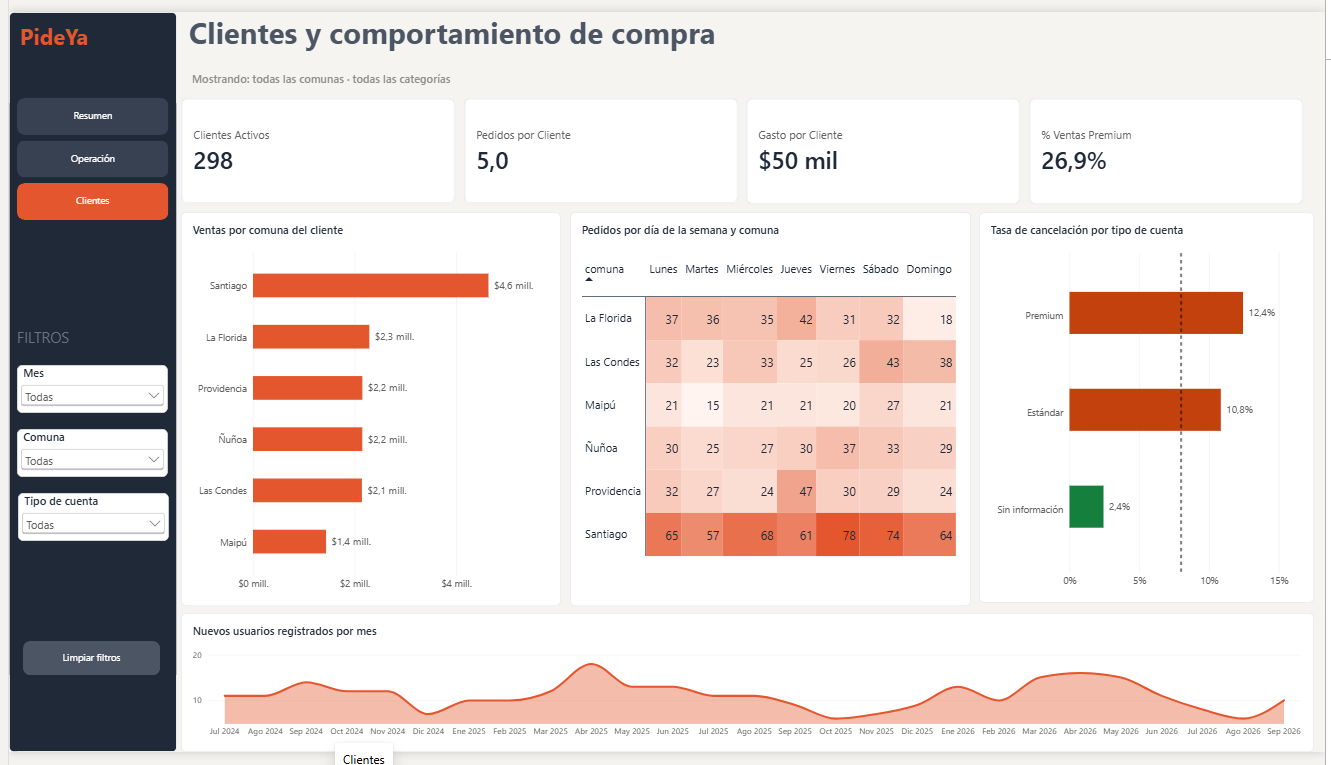

This screenshot's page, from the dashboard's own definition file:
{"tool":"powerbi","page":{"name":"Clientes","canvas":[1920,1080],"ordinal":2},"visuals":[{"type":"shape","box":[0,0,245.1,1079.6],"z":0},{"type":"cardVisual","fields":{"Data":["_Medidas.Clientes Activos"]},"box":[250.9,125.5,400,154.7],"z":1000},{"type":"cardVisual","fields":{"Data":["_Medidas.Pedidos por Cliente"]},"box":[663.3,125.5,400,154.7],"z":2000},{"type":"cardVisual","fields":{"Data":["_Medidas.Gasto por Cliente"]},"box":[1075.7,125.5,400,155],"z":3000},{"type":"cardVisual","fields":{"Data":["_Medidas.% Ventas Premium"]},"box":[1488.1,125.5,400,155],"z":4000},{"type":"slicer","fields":{"Values":["Calendario.Mes Año"]},"box":[11.7,515,220,70],"z":5000},{"type":"slicer","fields":{"Values":["Usuarios.comuna"]},"box":[11.7,608.4,220,70],"z":6000},{"type":"slicer","fields":{"Values":["Usuarios.tipo_cuenta"]},"box":[13.1,701.8,220,70],"z":7000},{"type":"actionButton","box":[20.4,917.7,200,50],"z":8000},{"type":"textbox","box":[250.9,0,1653,62.7],"z":9000},{"type":"cardVisual","fields":{"Data":["_Medidas.Titulo Filtros"]},"box":[250.9,80.2,1653,33.6],"z":10000},{"type":"textbox","box":[16,13.1,213,49.6],"z":11000},{"type":"pageNavigator","box":[11.7,125.5,221.8,179.5],"z":12000},{"type":"textbox","box":[11.7,459.6,220.3,55.4],"z":13000},{"type":"clusteredBarChart","title":"Ventas por comuna del cliente","fields":{"Category":["Usuarios.comuna"],"Y":["_Medidas.Ventas Totales"]},"box":[250.9,291.8,554.4,574.8],"z":14000},{"type":"pivotTable","title":"Pedidos por día de la semana y comuna","fields":{"Columns":["Calendario.Dia Semana"],"Rows":["Usuarios.comuna"],"Values":["_Medidas.Total Pedidos"]},"box":[818.5,291.8,585,574.8],"z":15000},{"type":"clusteredBarChart","title":"Tasa de cancelación por tipo de cuenta","fields":{"Category":["Usuarios.tipo_cuenta"],"Y":["_Medidas.Tasa Cancelacion"]},"box":[1415.2,291.8,488.8,570.5],"z":16000},{"type":"areaChart","title":"Nuevos usuarios registrados por mes","fields":{"Category":["Calendario.Mes Año"],"Y":["_Medidas.Nuevos Usuarios"]},"box":[250.9,876.8,1653,202.8],"z":17000}]}

Visuals, with their boxes on the page's 1920x1080 design canvas (x1, y1, x2, y2). These are canvas units, not pixel positions in the 1331x765 screenshot, which may show the page scaled, cropped or inside an application window:
shape: rect(0, 0, 245, 1080)
cardVisual - _Medidas.Clientes Activos: rect(251, 126, 651, 280)
cardVisual - _Medidas.Pedidos por Cliente: rect(663, 126, 1063, 280)
cardVisual - _Medidas.Gasto por Cliente: rect(1076, 126, 1476, 280)
cardVisual - _Medidas.% Ventas Premium: rect(1488, 126, 1888, 280)
slicer - Calendario.Mes Año: rect(12, 515, 232, 585)
slicer - Usuarios.comuna: rect(12, 608, 232, 678)
slicer - Usuarios.tipo_cuenta: rect(13, 702, 233, 772)
actionButton: rect(20, 918, 220, 968)
textbox: rect(251, 0, 1904, 63)
cardVisual - _Medidas.Titulo Filtros: rect(251, 80, 1904, 114)
textbox: rect(16, 13, 229, 63)
pageNavigator: rect(12, 126, 234, 305)
textbox: rect(12, 460, 232, 515)
"Ventas por comuna del cliente" clusteredBarChart: rect(251, 292, 805, 867)
"Pedidos por día de la semana y comuna" pivotTable: rect(818, 292, 1404, 867)
"Tasa de cancelación por tipo de cuenta" clusteredBarChart: rect(1415, 292, 1904, 862)
"Nuevos usuarios registrados por mes" areaChart: rect(251, 877, 1904, 1080)
